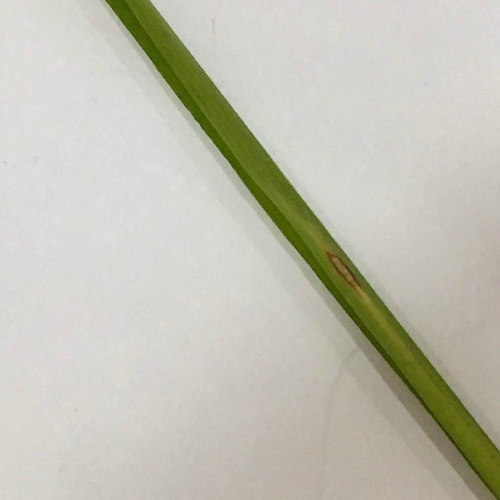Busuk Leher: (321, 239, 364, 297)
